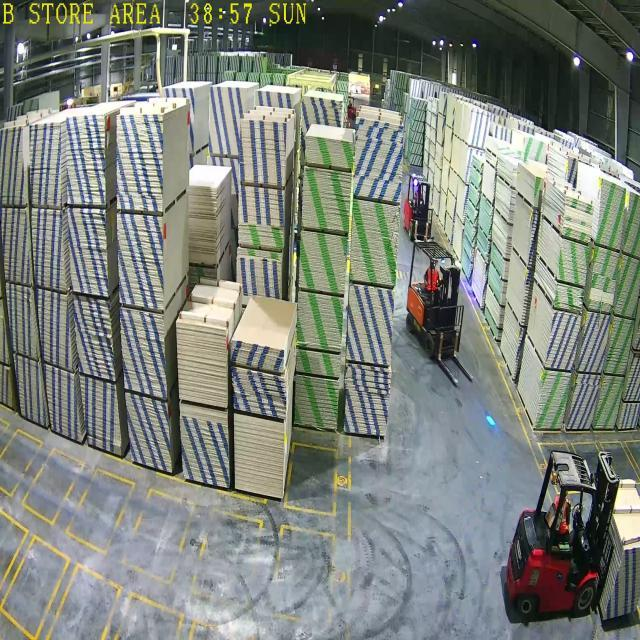material_stack: (349, 200, 401, 289), (354, 115, 405, 204), (233, 412, 285, 498), (345, 282, 396, 367), (342, 361, 392, 438), (301, 165, 352, 232), (298, 229, 348, 295), (296, 290, 345, 355), (232, 366, 287, 421), (294, 374, 340, 431), (544, 309, 582, 373), (533, 370, 573, 430), (587, 245, 621, 315), (229, 336, 285, 376), (576, 311, 611, 375), (596, 178, 626, 250), (566, 373, 601, 431), (604, 315, 635, 376), (304, 134, 354, 171), (592, 374, 625, 429), (562, 194, 596, 245), (614, 254, 640, 320), (557, 236, 590, 287), (295, 348, 341, 381), (623, 191, 640, 258), (554, 282, 585, 314), (618, 402, 640, 430)
